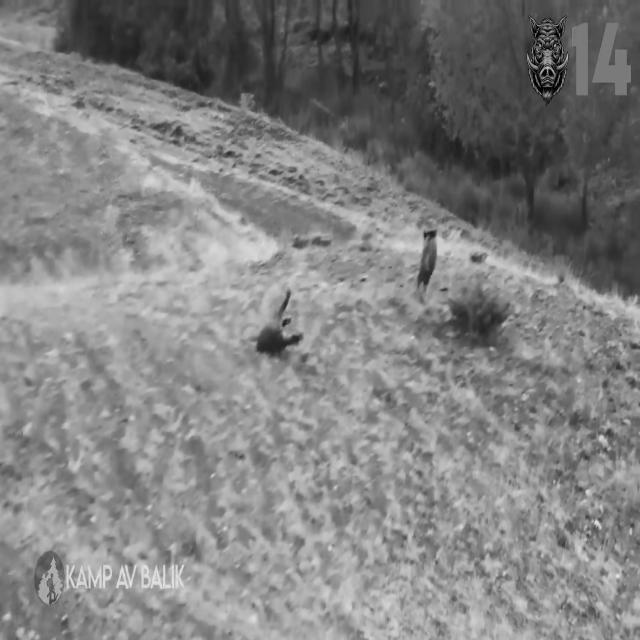boar: (257, 289, 303, 352), (418, 229, 438, 290)
